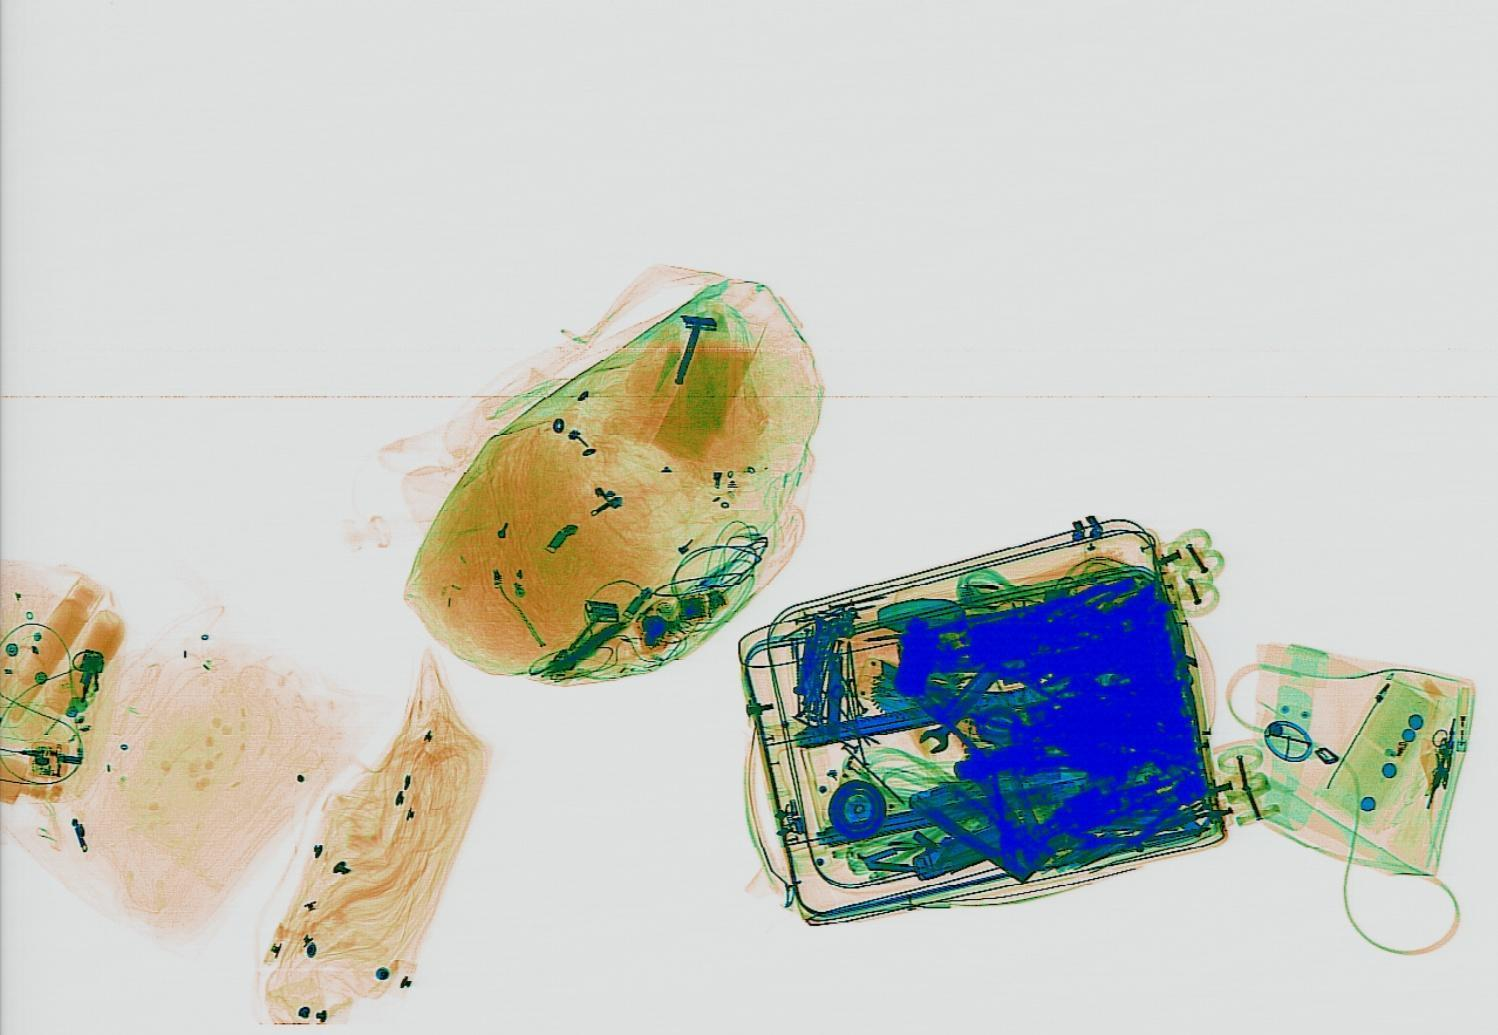Wrench: (902, 654, 1013, 757)
